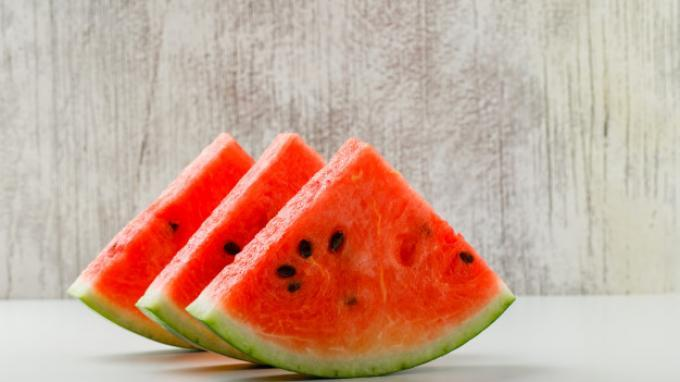Semangka: (237, 146, 463, 353), (61, 142, 242, 283), (175, 117, 323, 243)
